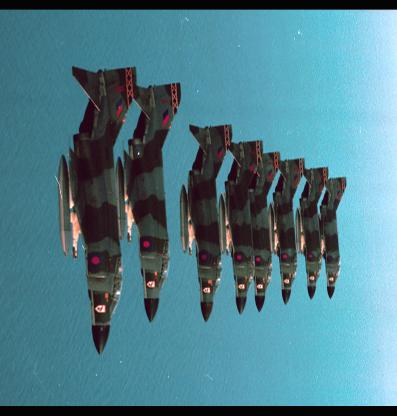F35: (58, 65, 137, 356), (116, 82, 182, 324), (179, 124, 234, 323), (219, 140, 264, 316), (268, 157, 305, 306), (249, 150, 282, 312), (295, 166, 328, 299), (318, 176, 347, 299)
